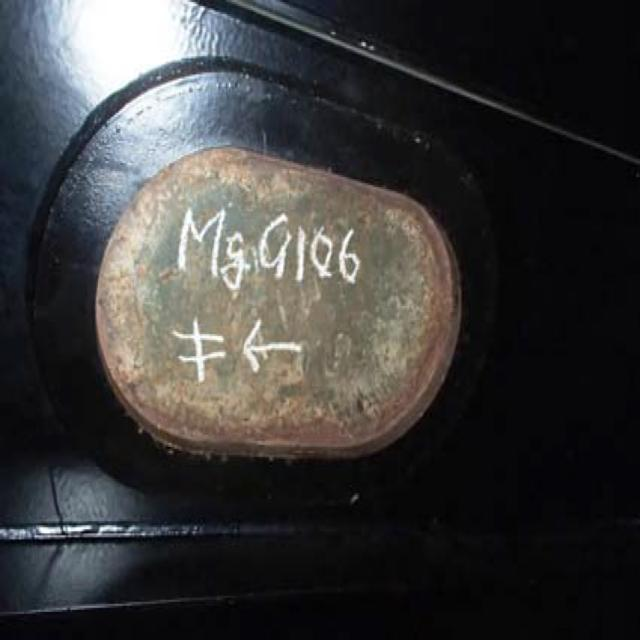corrosion: (99, 81, 468, 466)
